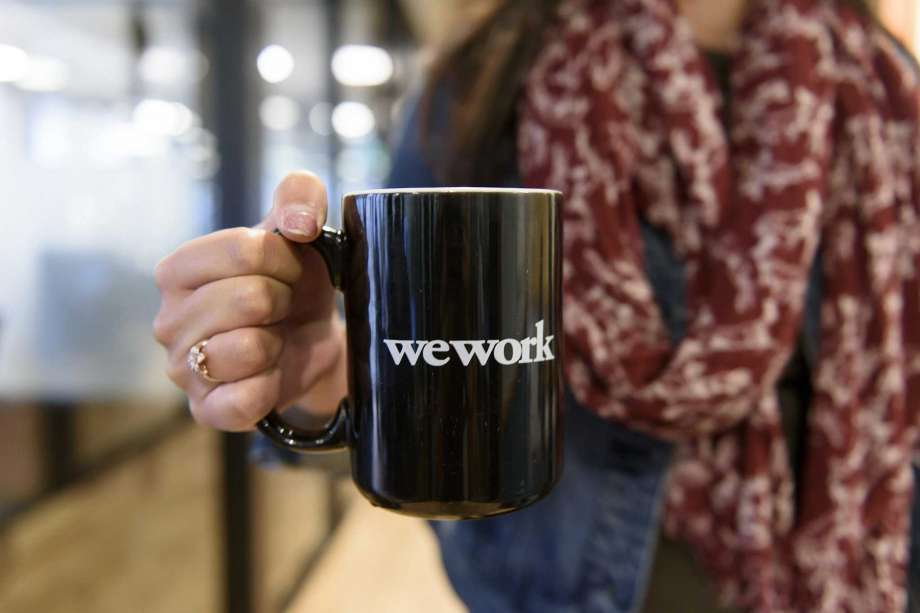wework: (378, 316, 558, 370)
